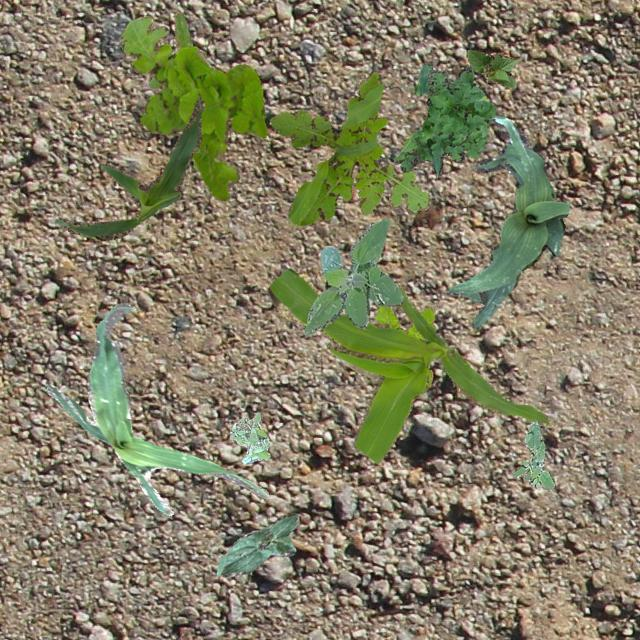crop: (268, 268, 552, 462), (44, 302, 268, 514), (446, 112, 568, 328), (54, 92, 204, 240), (215, 512, 298, 576), (465, 48, 517, 88)
weed: (120, 14, 266, 200), (268, 72, 430, 225), (302, 218, 402, 334), (392, 62, 494, 174), (374, 304, 434, 386), (148, 9, 192, 86), (509, 418, 554, 491), (228, 412, 270, 462)
